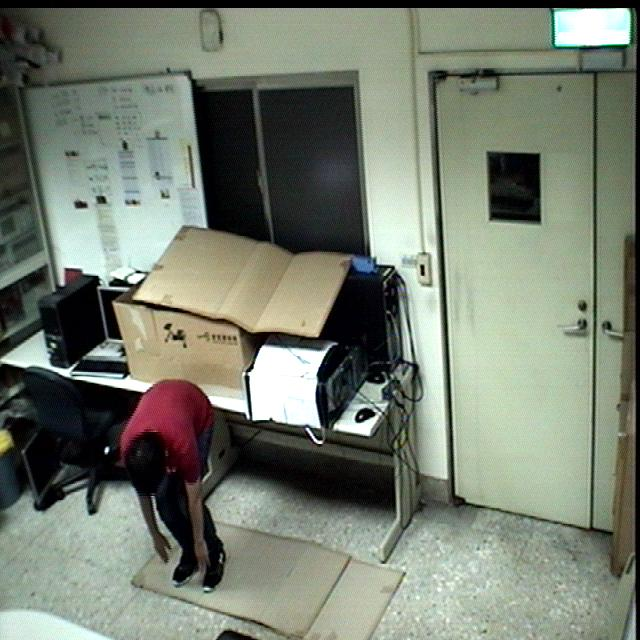bend: (114, 371, 231, 604)
